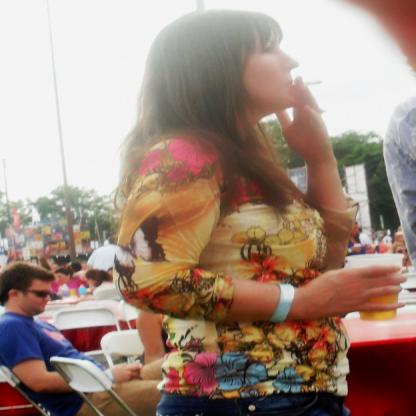drinking: (344, 254, 404, 321)
smoking: (291, 80, 321, 86)
